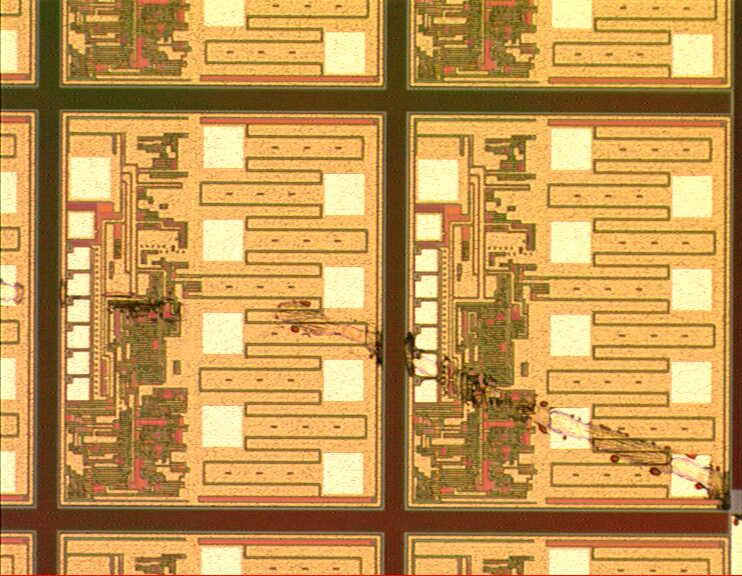SCRATCH: (1, 275, 742, 522)
